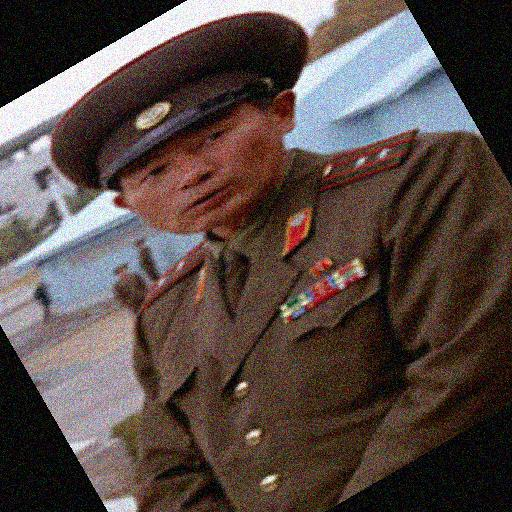north army: (36, 6, 512, 500)
